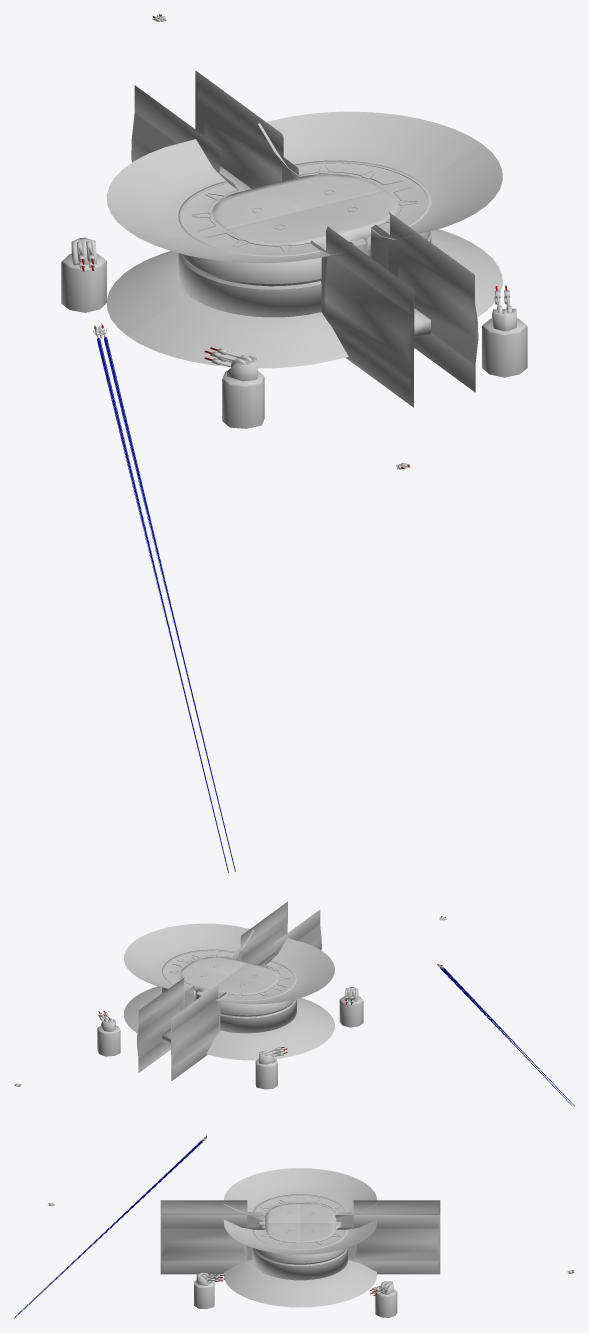
Rendered from Space Station Scene.obj.
3 views of the same model, one above another, from view 1: azimuth 30°, elevation 25°; view 2: azimuth 150°, elevation 25°; view 3: azimuth 270°, elevation 25° (orthographic). The views are drawn at different scales.
Visible parts, largest first — view 1: Station-Outside_out_side_low, Station-Inside_Circle.065, window_shutter_down_Circle.025, window_shutter_up_Circle.000, Laser-Tower.003_tower.001, Laser-Tower.001_tower.001, Laser-Tower.002_tower.001, Starfighter_Laser.002_SF.002, Starfighter_Laser.001_SF.002; view 2: Station-Outside_out_side_low, Station-Inside_Circle.065, window_shutter_down_Circle.025, window_shutter_up_Circle.000, Laser-Tower.002_tower.001, Laser-Tower_tower.001, Laser-Tower.001_tower.001, Starfighter_Laser.002_SF.002, Starfighter_Laser.001_SF.002; view 3: Station-Outside_out_side_low, Station-Inside_Circle.065, window_shutter_down_Circle.025, window_shutter_up_Circle.000, Laser-Tower_tower.001, Laser-Tower.003_tower.001, Starfighter_Laser.001_SF.002, Starfighter_Laser.002_SF.002.
Part boxes in pixels (x1,y1,x2,y2): Station-Outside_out_side_low: (106, 70, 502, 407); Station-Inside_Circle.065: (198, 163, 430, 337); window_shutter_down_Circle.025: (178, 232, 431, 317); window_shutter_up_Circle.000: (178, 160, 431, 286); Laser-Tower.003_tower.001: (482, 318, 527, 377); Laser-Tower.001_tower.001: (61, 253, 106, 312); Laser-Tower.002_tower.001: (222, 371, 264, 428); Starfighter_Laser.002_SF.002: (97, 338, 228, 872); Starfighter_Laser.001_SF.002: (104, 337, 235, 871); Station-Outside_out_side_low: (124, 901, 334, 1080); Station-Inside_Circle.065: (162, 951, 285, 1044); window_shutter_down_Circle.025: (162, 988, 296, 1033); window_shutter_up_Circle.000: (162, 949, 296, 1016); Laser-Tower.002_tower.001: (339, 996, 363, 1027); Laser-Tower_tower.001: (97, 1025, 120, 1056); Laser-Tower.001_tower.001: (255, 1058, 277, 1089); Starfighter_Laser.002_SF.002: (443, 968, 574, 1106); Starfighter_Laser.001_SF.002: (440, 967, 571, 1105); Station-Outside_out_side_low: (160, 1168, 440, 1307); Station-Inside_Circle.065: (247, 1201, 353, 1259); window_shutter_down_Circle.025: (252, 1248, 347, 1280); window_shutter_up_Circle.000: (253, 1194, 347, 1264); Laser-Tower_tower.001: (375, 1289, 397, 1317); Laser-Tower.003_tower.001: (194, 1280, 214, 1308); Starfighter_Laser.001_SF.002: (14, 1141, 202, 1318); Starfighter_Laser.002_SF.002: (15, 1139, 202, 1316).
Bounding box in the file's own units: 587 × 411 × 1057.
